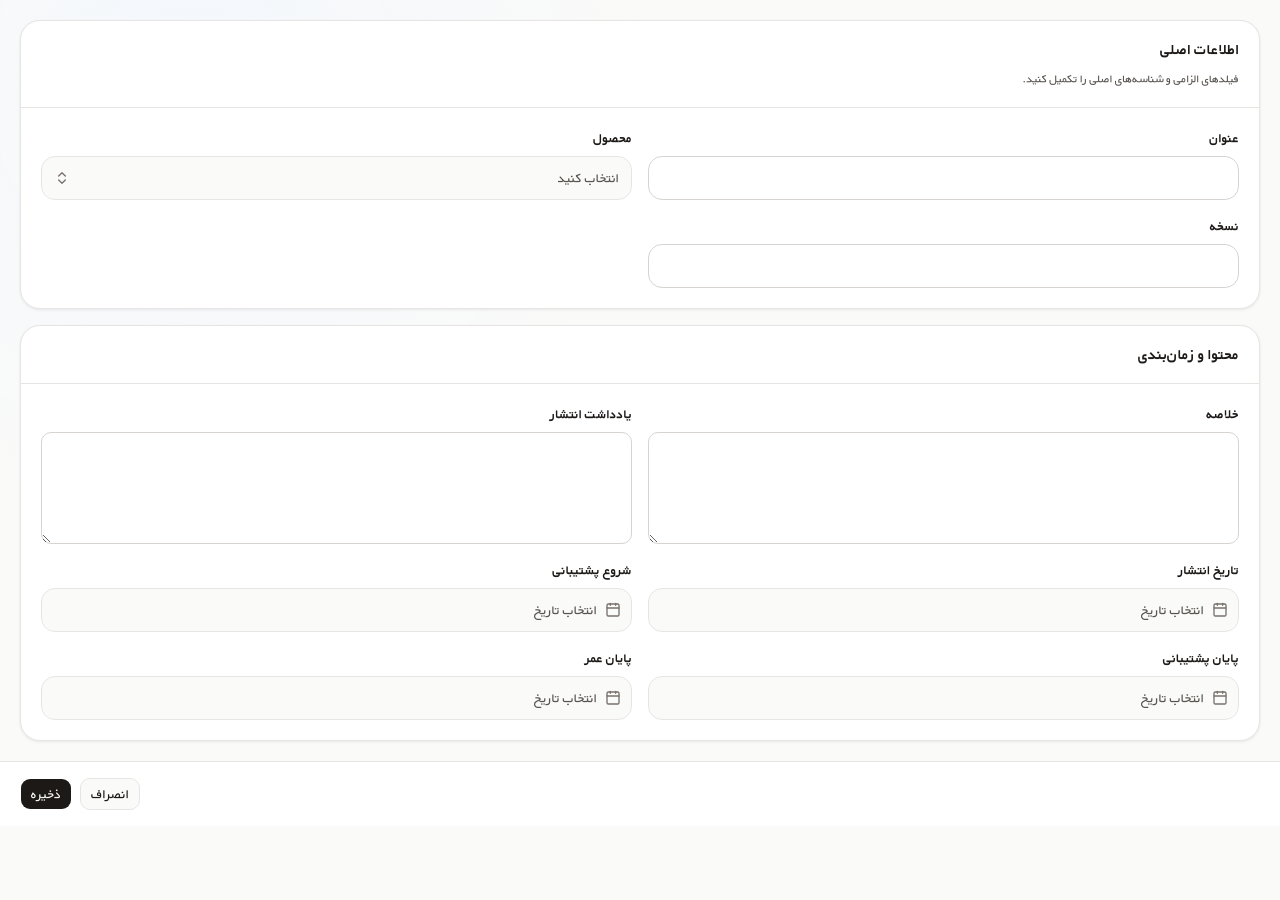
Test: Technical Center behavior › validates domain-required release fields before save
Type "انتشار جدید" into the field labelled "عنوان" at (944, 178), box [648,156,1239,200]
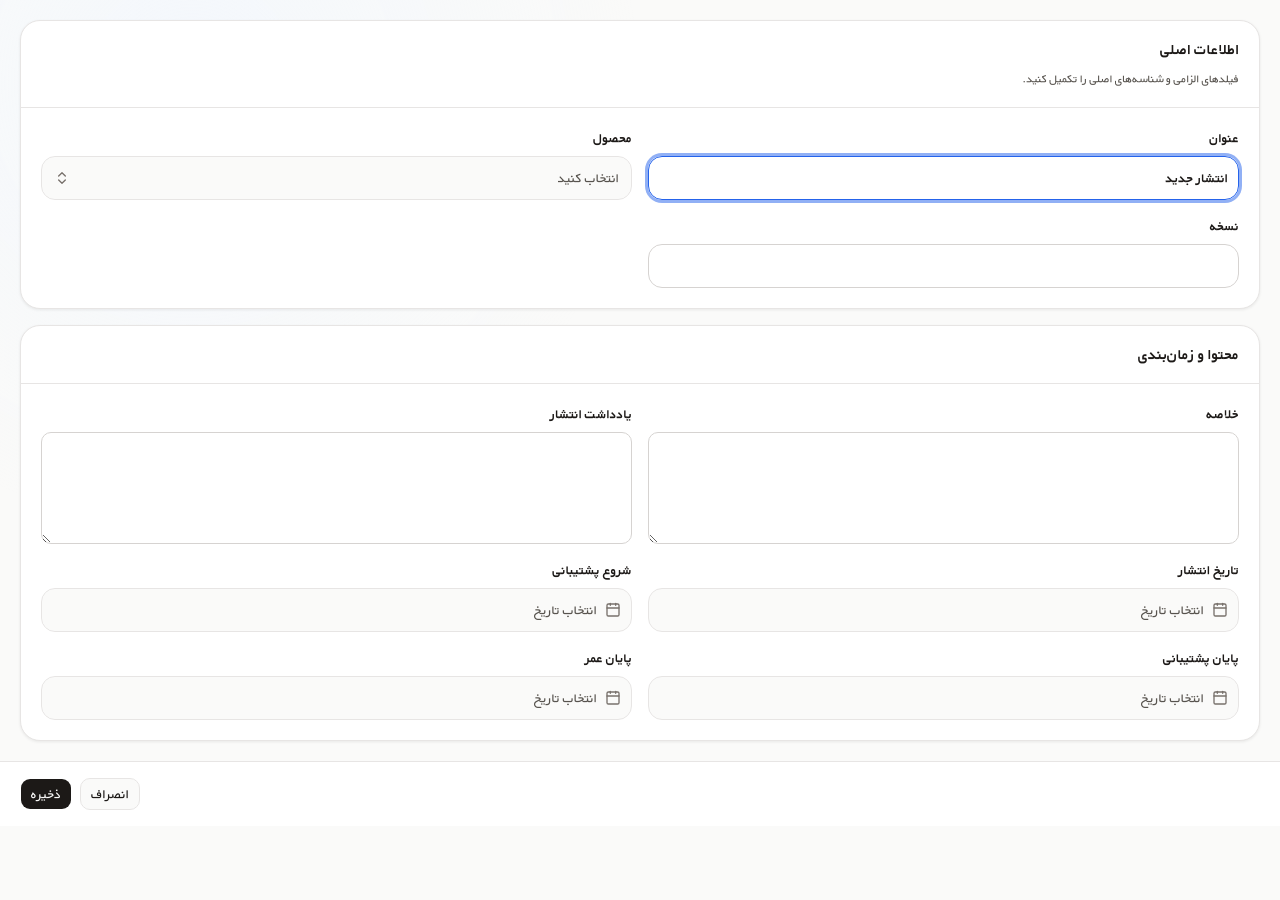
Click the button "ذخیره" at (46, 794), box [20,778,72,810]
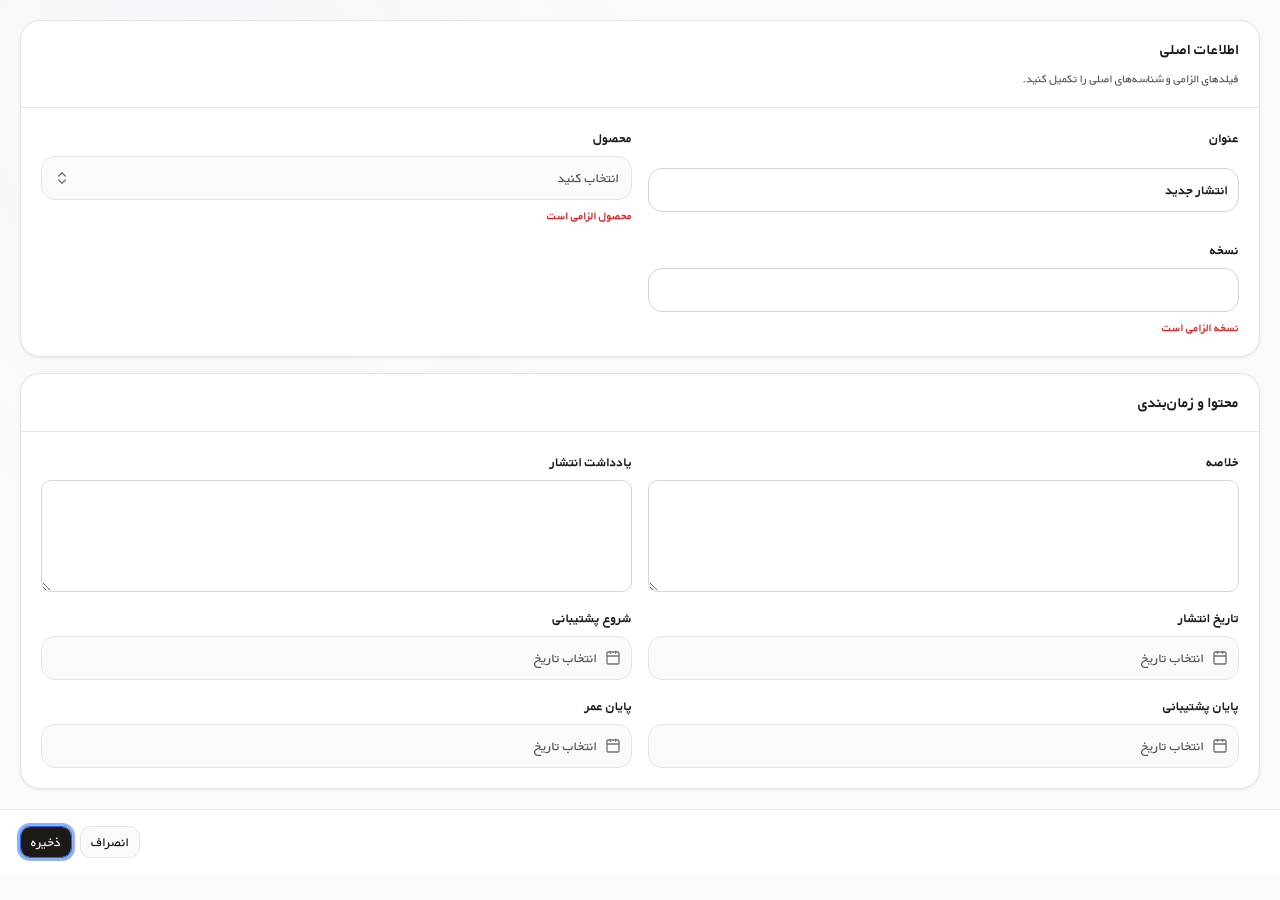
Now the text "محصول الزامی است" is shown, box [547,207,632,224]
Now the text "نسخه الزامی است" is shown, box [1162,319,1239,336]
